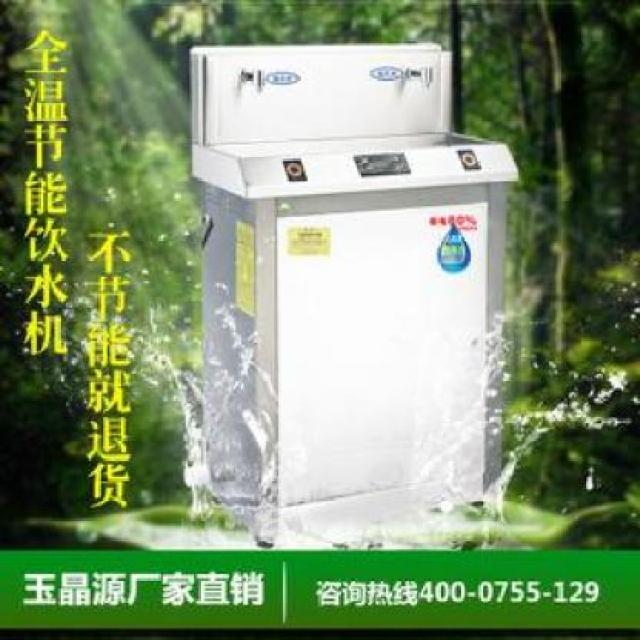cooler: (187, 39, 518, 543)
